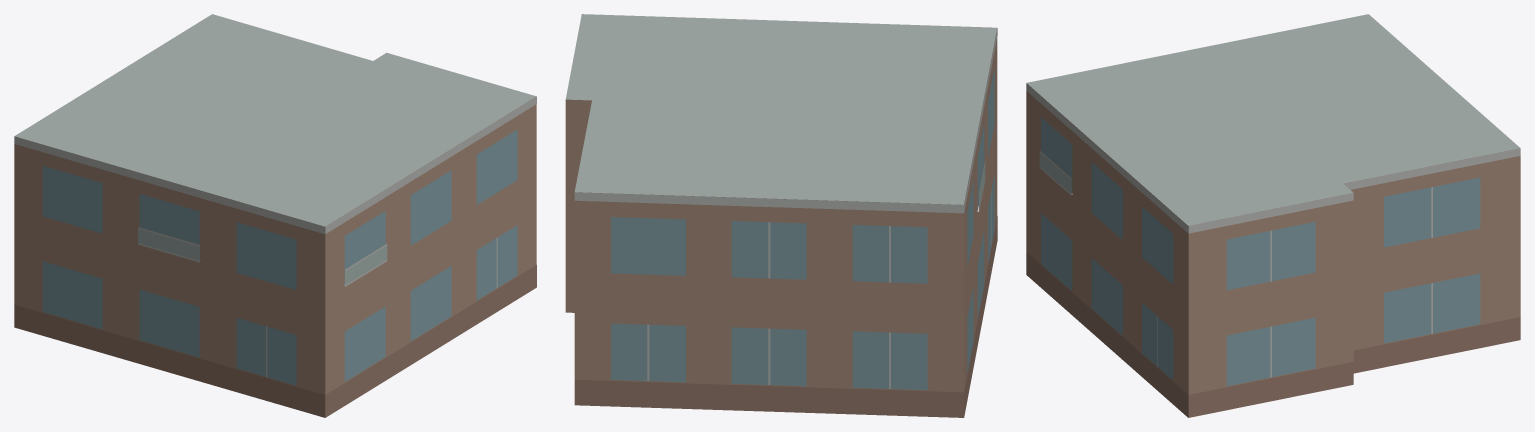
Rendered from survey-upis-32701599.glb.
3 renders of one model, left to right at view 1: azimuth 30°, elevation 25°; view 2: azimuth 150°, elevation 25°; view 3: azimuth 270°, elevation 25°, orthographic. The views are drawn at different scales.
Parts seen in each view (by area): view 1: survey-upis-32701599.tmp; view 2: survey-upis-32701599.tmp; view 3: survey-upis-32701599.tmp.
Part boxes in pixels (bbox=[...]): survey-upis-32701599.tmp: bbox=[14, 14, 536, 417]; survey-upis-32701599.tmp: bbox=[565, 14, 997, 417]; survey-upis-32701599.tmp: bbox=[1026, 14, 1520, 417].
Size of the model in its own units: 14.46 by 6.1 by 14.25.
